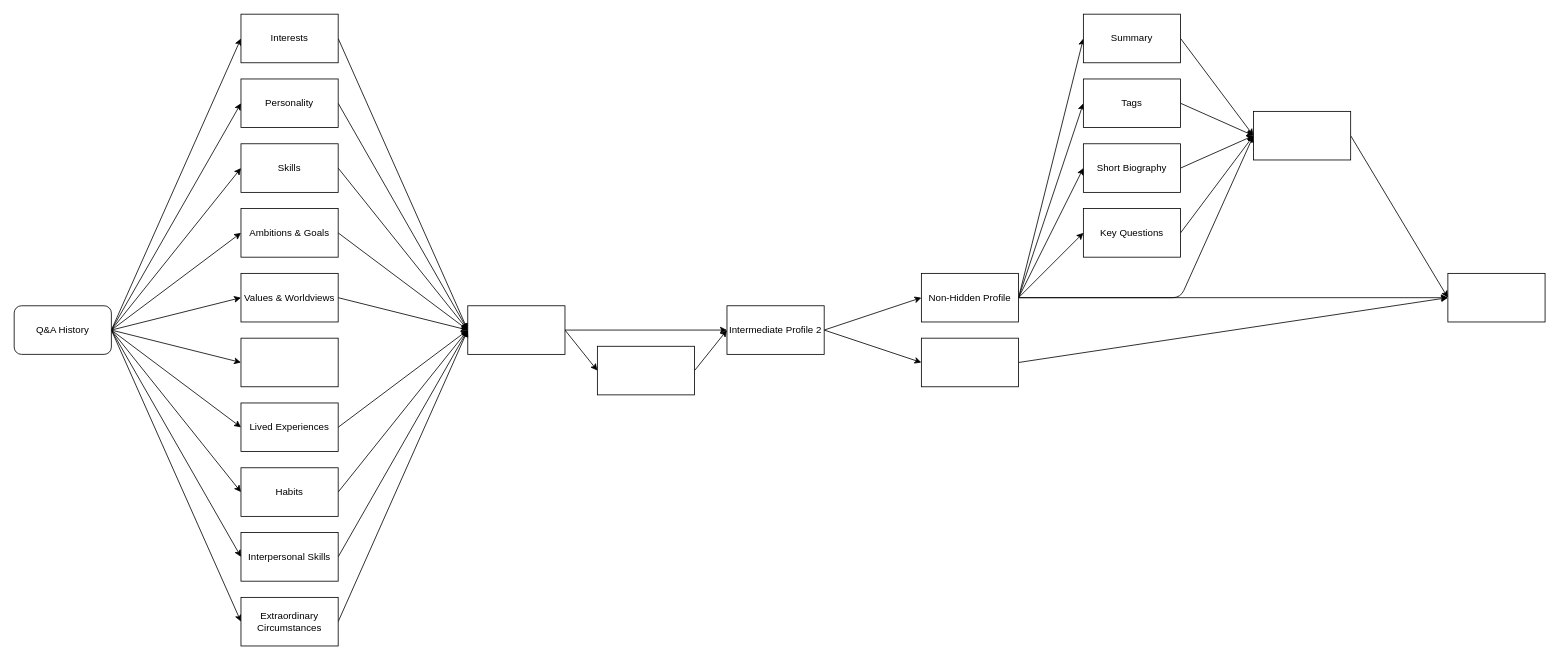
Some shapes in this 1559 by 660 pixel diagram are drawn without their labels. The shapes that lost their labels are listed below. From the top down, each one's centre as x and y in pixels, then its label:
(1302,135): Public Profile
(1496,297): Internal Profile
(516,329): Intermediate Profile 1
(289,362): Demographics
(646,370): Inference
(970,362): Hidden Profile
